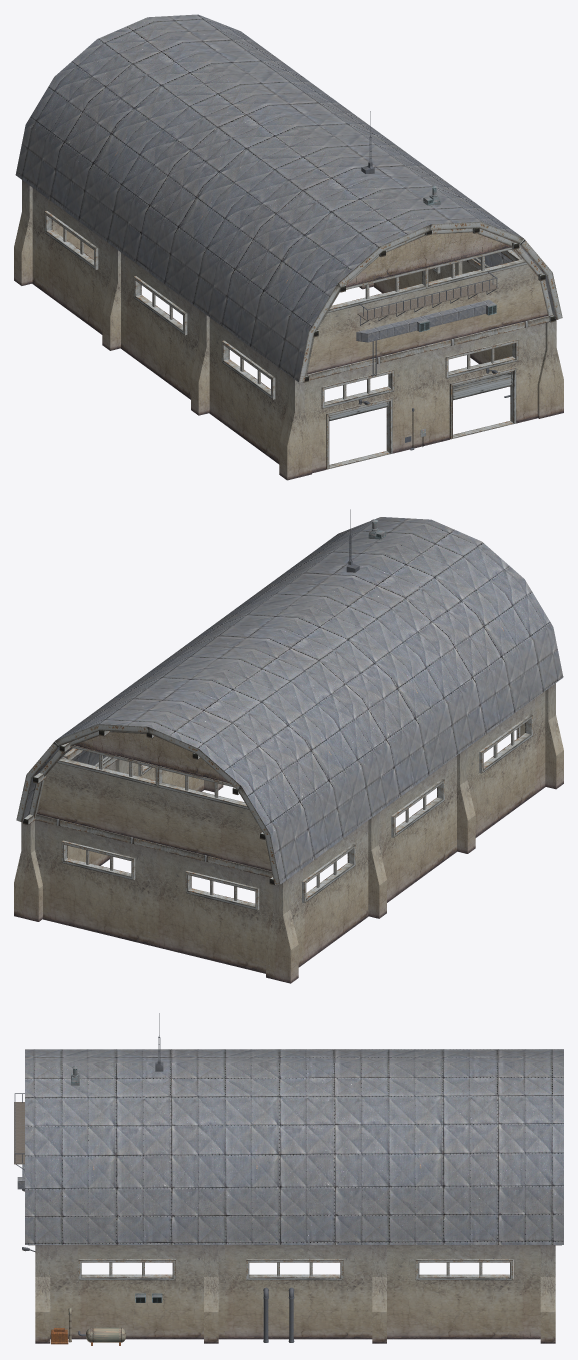
The model's file is ind6_hall1.dae.
3 views of the same model, one above another, from view 1: azimuth 30°, elevation 25°; view 2: azimuth 150°, elevation 25°; view 3: azimuth 270°, elevation 25° (orthographic). The views are drawn at different scales.
Visible parts, largest first — view 1: Mesh; view 2: Mesh; view 3: Mesh.
Part boxes in pixels (left/top/right/bottom): Mesh: left=14, top=14, right=563, bottom=480; Mesh: left=14, top=509, right=563, bottom=983; Mesh: left=14, top=1013, right=563, bottom=1345.
Size of the model in its own units: 23.49 by 22.95 by 41.85.
